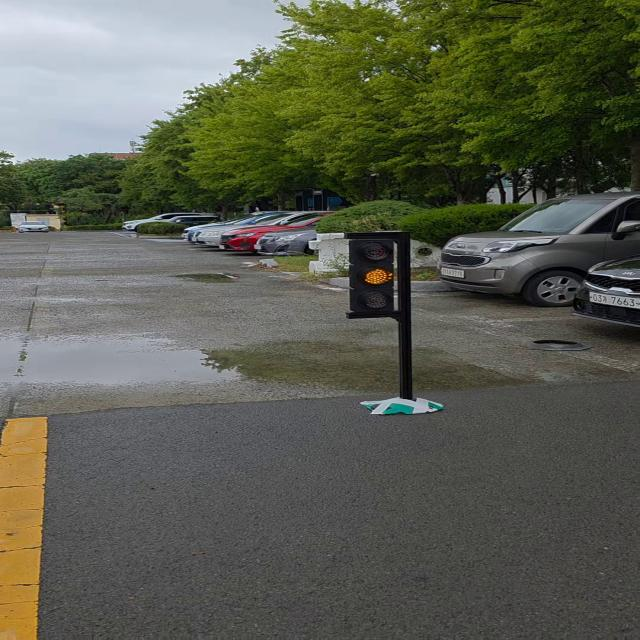yellow: (352, 235, 402, 315)
